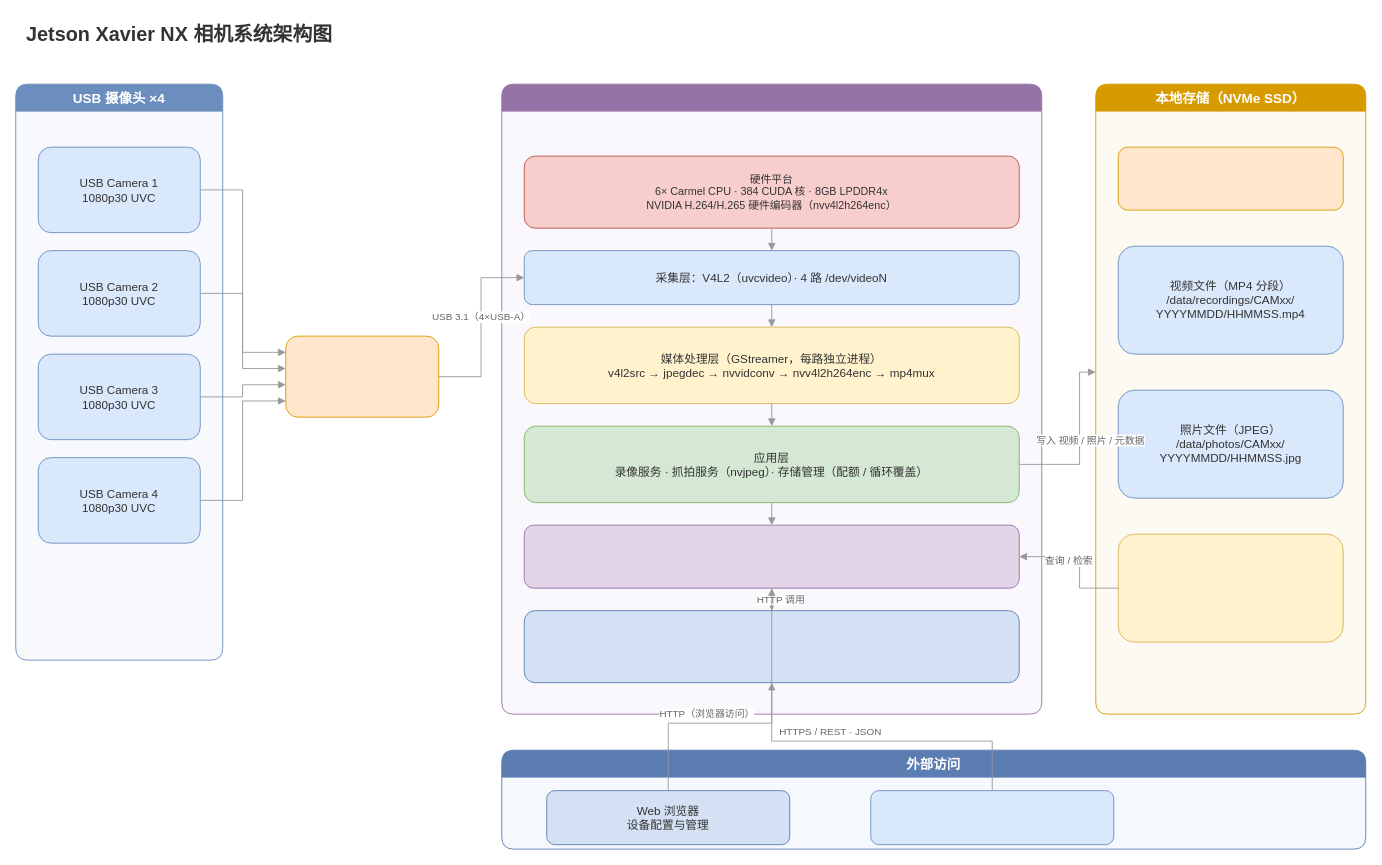
This 1382x865 diagram has some shape labels left out. Each missing label, with the box of its shape:
API 服务层：FastAPI + uvicorn（HTTP / JSON）· /api/*: (523, 524, 1019, 588)
Jetson Xavier NX（设备端 · Ubuntu 20.04 · JetPack 5.1.3）: (501, 83, 1042, 714)
NVMe SSD（M.2） /dev/nvme0n1 · /data 分区: (1117, 146, 1343, 210)
USB3.0 Hub （主动供电 4 口）: (285, 335, 439, 417)
Web 配置界面（内嵌页面） 通道管理 · 录像 / 抓拍参数 · 存储状态: (523, 610, 1019, 683)
上位机 / 云端 RESTful 调用（HTTP / JSON）: (870, 790, 1114, 845)
元数据索引 SQLite：/data/meta.db 相机 · 起止时间 · 时长 · 大小 · 事件标签: (1117, 533, 1343, 642)
